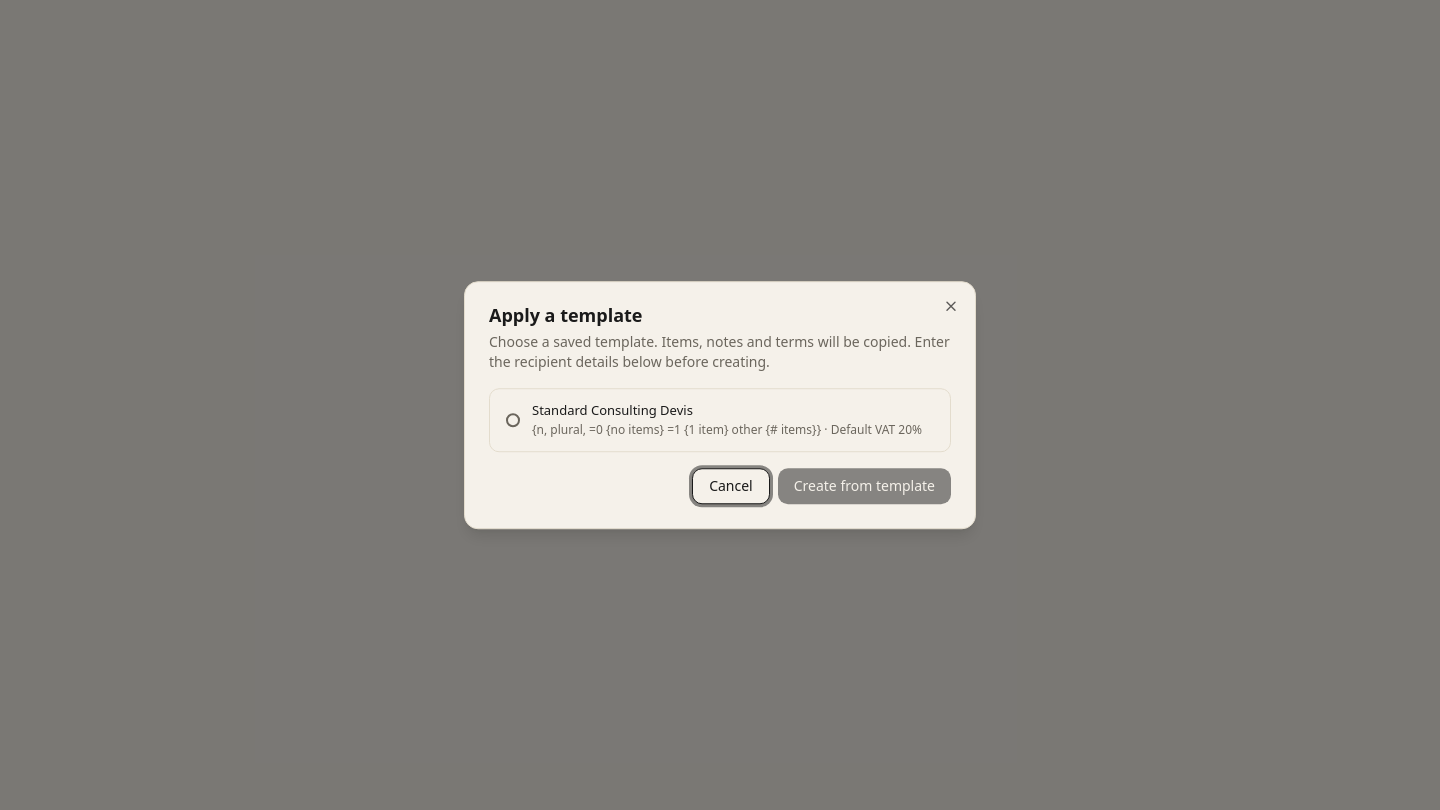
test_apply_template_dialog_lists_filtered_by_kind_and_creates_doc › shows name validation error when submitting without recipient name
# Select template
Step 1. Click the text "Standard Consulting Devis" → coordinates (612, 410), box [532,401,693,419]
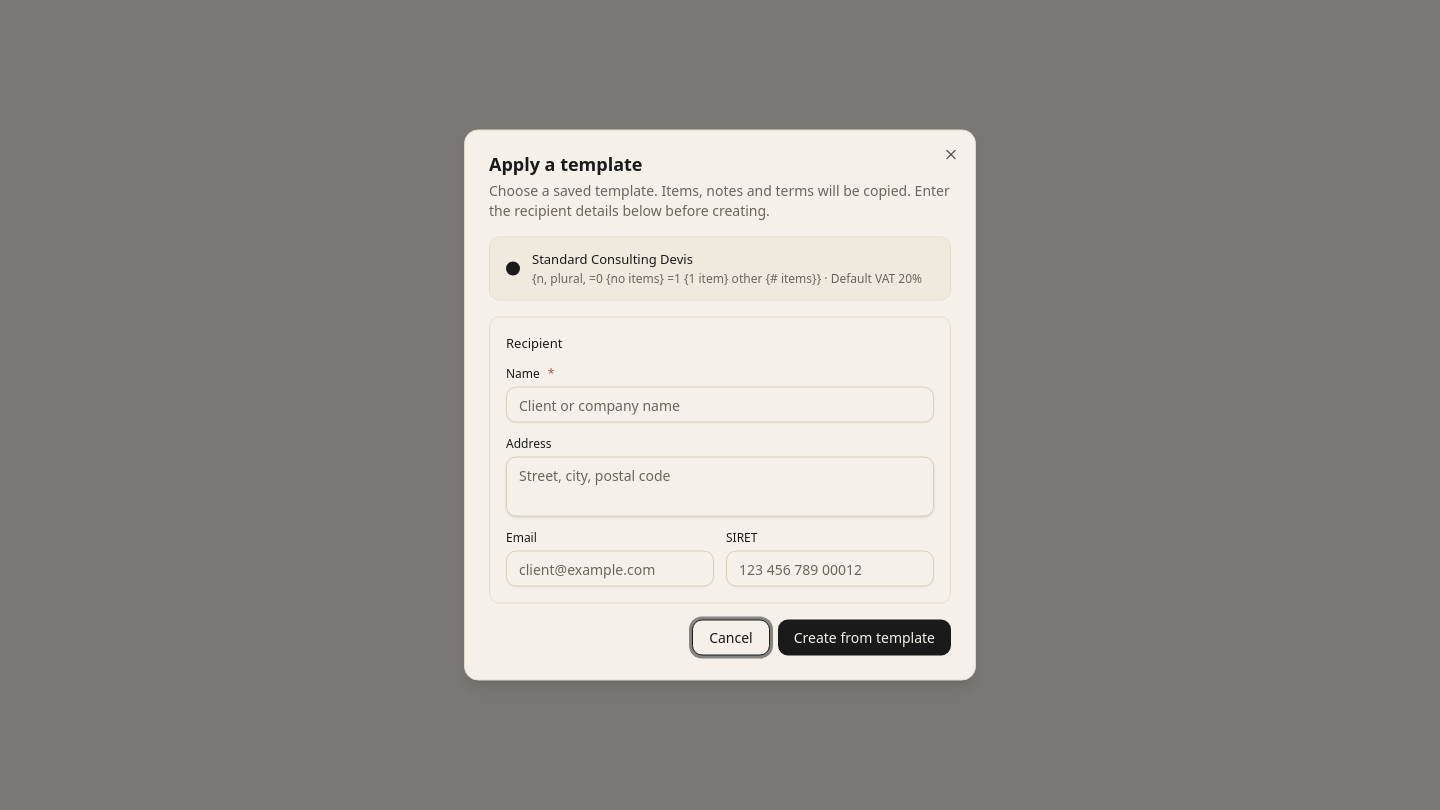
Now the field labelled "Name *" is shown, box [506,386,934,422]
# Submit without filling name
Step 2. Click the button "Create from template" → coordinates (864, 638), box [778,620,951,656]
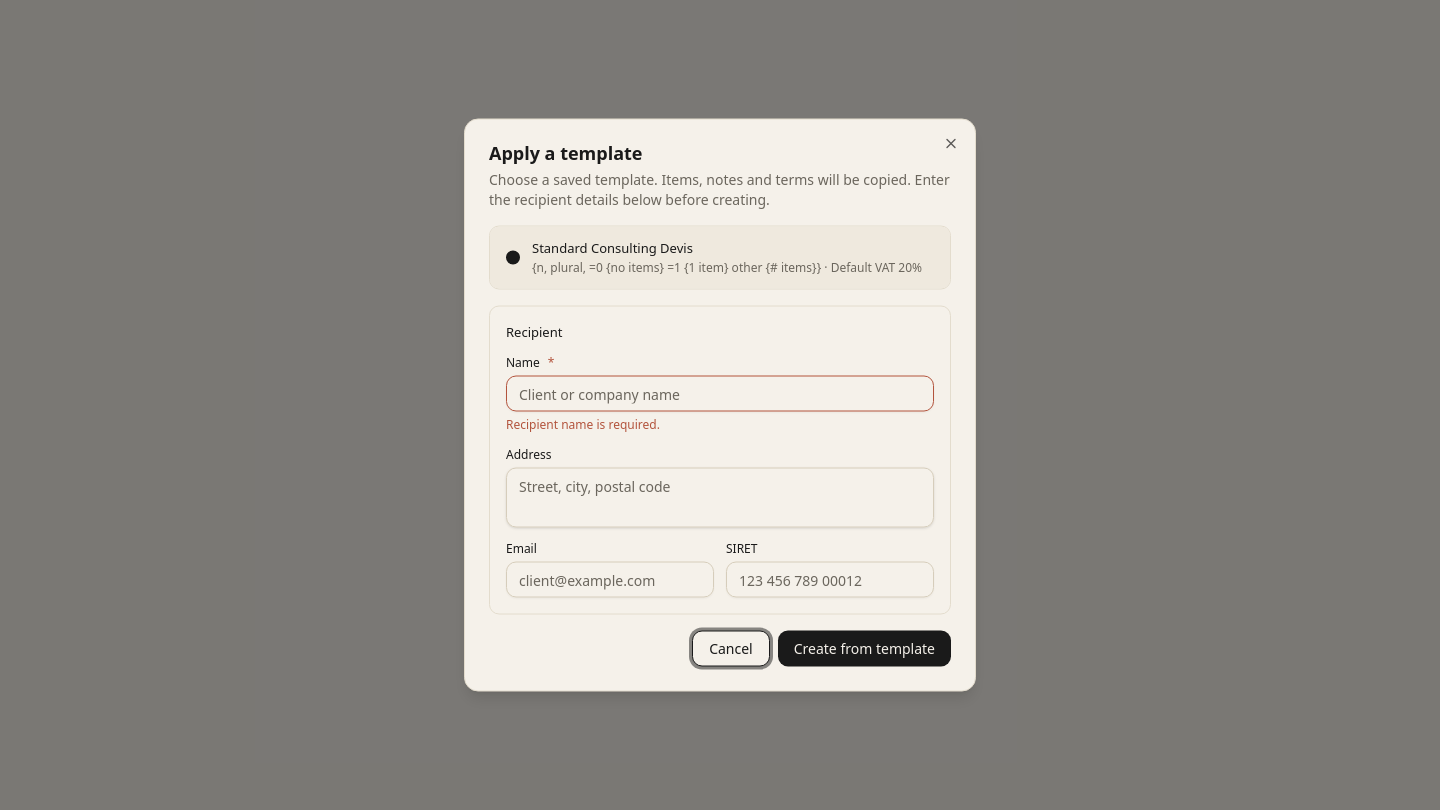
Now the text "Recipient name is required." is shown, box [506,416,660,432]
